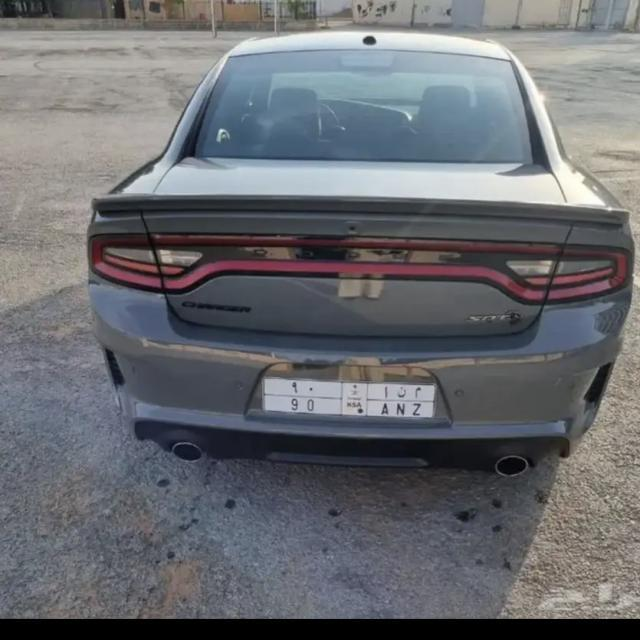license_plate: (262, 377, 438, 424)
